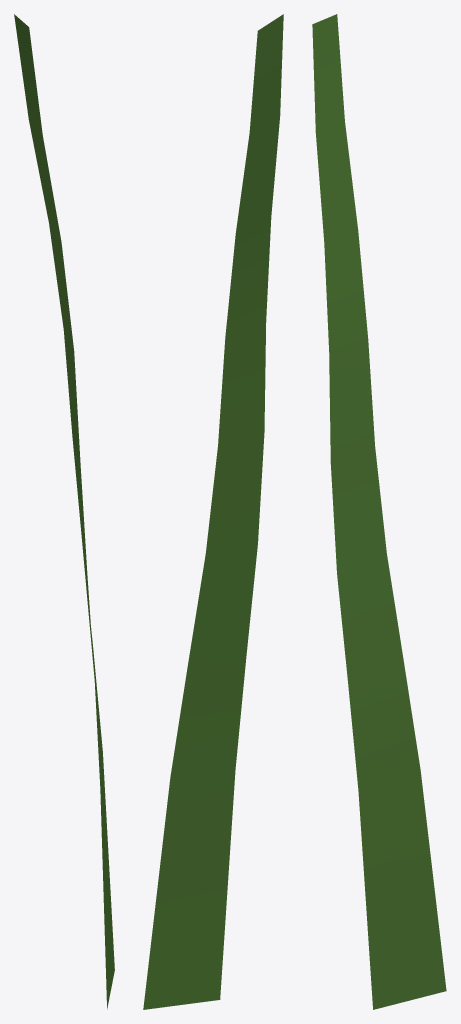
File: plant_swamp_kelp_giant_B_solo_I.fbx
3 renders of one model, left to right at view 1: azimuth 30°, elevation 25°; view 2: azimuth 150°, elevation 25°; view 3: azimuth 330°, elevation 25°, orthographic. The views are drawn at different scales.
Visible parts, largest first — view 1: plant_swamp_kelp_giant_B_solo_I; view 2: plant_swamp_kelp_giant_B_solo_I; view 3: plant_swamp_kelp_giant_B_solo_I.
Part boxes in pixels (left/top/right/bottom): plant_swamp_kelp_giant_B_solo_I: left=14, top=14, right=114, bottom=1009; plant_swamp_kelp_giant_B_solo_I: left=143, top=14, right=283, bottom=1009; plant_swamp_kelp_giant_B_solo_I: left=312, top=14, right=446, bottom=1009.
Bounding box in the file's own units: 20.49 × 174 × 13.53.
